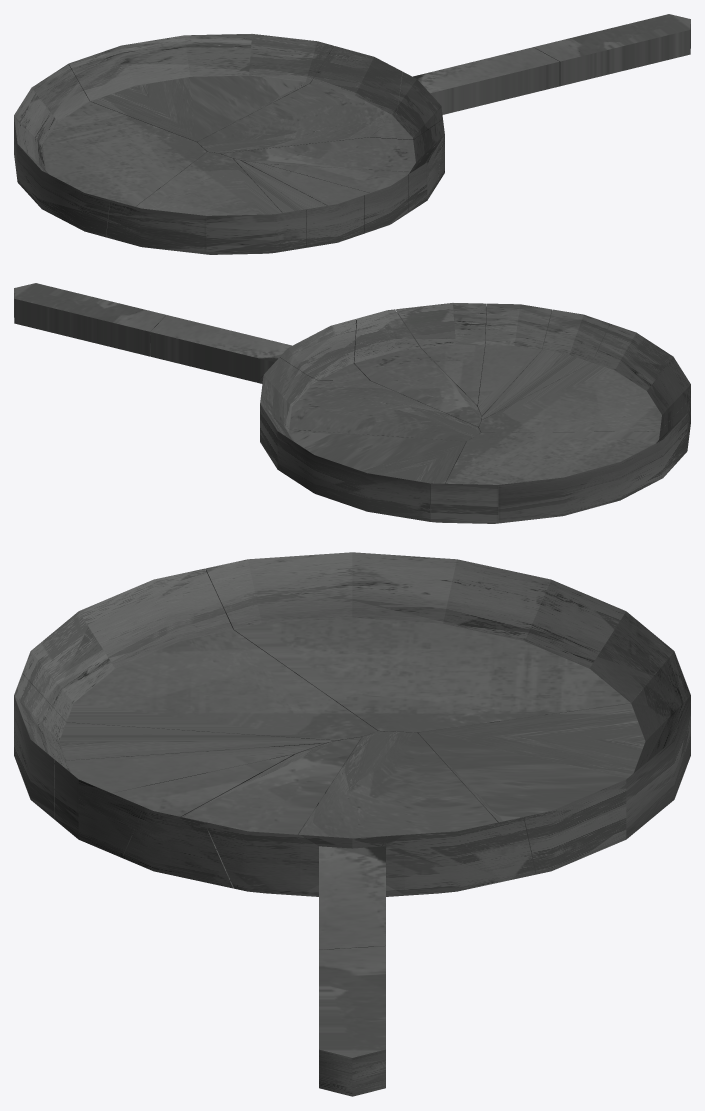
The model's file is PanBreak.fbx.
The picture shows the model from 3 angles, top to bottom: view 1: azimuth 30°, elevation 25°; view 2: azimuth 150°, elevation 25°; view 3: azimuth 270°, elevation 25°; orthographic projection. The views are drawn at different scales.
Parts seen in each view (by area): view 1: Pan_cell.008, Pan_cell.002, Pan_cell.003, Pan_cell.004, Pan_cell.009, Pan_cell.001, Pan_cell.006, Pan_cell.005, Pan_cell.007, Pan_cell; view 2: Pan_cell.002, Pan_cell.008, Pan_cell.003, Pan_cell.004, Pan_cell.009, Pan_cell.006, Pan_cell.001, Pan_cell, Pan_cell.007, Pan_cell.005; view 3: Pan_cell.002, Pan_cell.003, Pan_cell.008, Pan_cell.004, Pan_cell.009, Pan_cell.006, Pan_cell.001, Pan_cell, Pan_cell.005, Pan_cell.007.
Part boxes in pixels (x1=…): Pan_cell.008: x1=68, y1=34, x2=333, y2=141; Pan_cell.002: x1=14, y1=64, x2=206, y2=237; Pan_cell.003: x1=106, y1=152, x2=305, y2=254; Pan_cell.004: x1=197, y1=46, x2=402, y2=153; Pan_cell.009: x1=370, y1=47, x2=559, y2=139; Pan_cell.001: x1=533, y1=14, x2=690, y2=86; Pan_cell.006: x1=221, y1=119, x2=444, y2=183; Pan_cell.005: x1=233, y1=158, x2=363, y2=247; Pan_cell.007: x1=241, y1=160, x2=408, y2=233; Pan_cell: x1=265, y1=138, x2=442, y2=212; Pan_cell.002: x1=430, y1=400, x2=688, y2=523; Pan_cell.008: x1=260, y1=395, x2=465, y2=521; Pan_cell.003: x1=479, y1=323, x2=690, y2=439; Pan_cell.004: x1=257, y1=357, x2=480, y2=442; Pan_cell.009: x1=150, y1=315, x2=369, y2=382; Pan_cell.006: x1=353, y1=309, x2=481, y2=427; Pan_cell.001: x1=14, y1=283, x2=166, y2=356; Pan_cell: x1=395, y1=303, x2=486, y2=407; Pan_cell.007: x1=478, y1=303, x2=551, y2=417; Pan_cell.005: x1=482, y1=309, x2=609, y2=419; Pan_cell.002: x1=205, y1=552, x2=674, y2=732; Pan_cell.003: x1=22, y1=568, x2=377, y2=740; Pan_cell.008: x1=418, y1=651, x2=690, y2=874; Pan_cell.004: x1=299, y1=731, x2=535, y2=896; Pan_cell.009: x1=205, y1=822, x2=387, y2=949; Pan_cell.006: x1=122, y1=737, x2=361, y2=894; Pan_cell.001: x1=319, y1=946, x2=385, y2=1096; Pan_cell: x1=54, y1=754, x2=294, y2=857; Pan_cell.005: x1=14, y1=673, x2=335, y2=776; Pan_cell.007: x1=22, y1=718, x2=323, y2=819.
Size of the model in its own units: 323 by 25.84 by 186.
